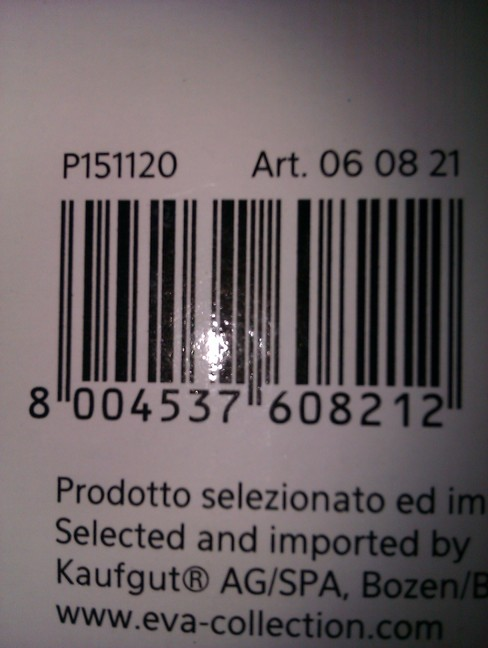barcode: (15, 191, 475, 442)
